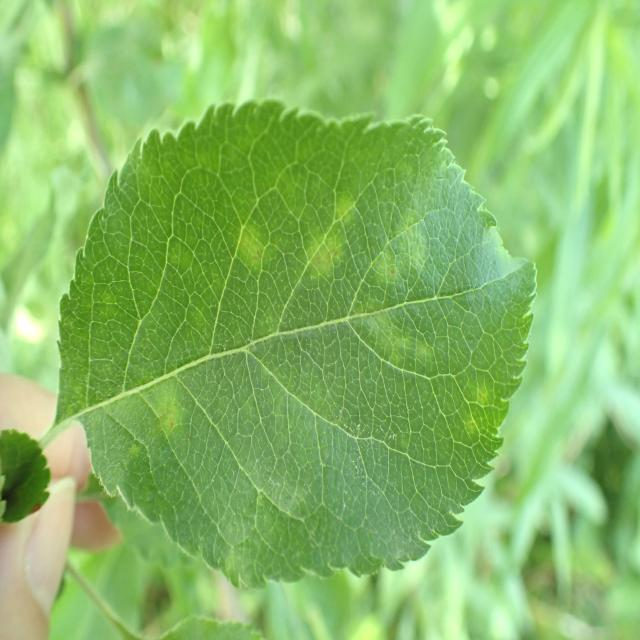scab: (75, 160, 519, 564)
